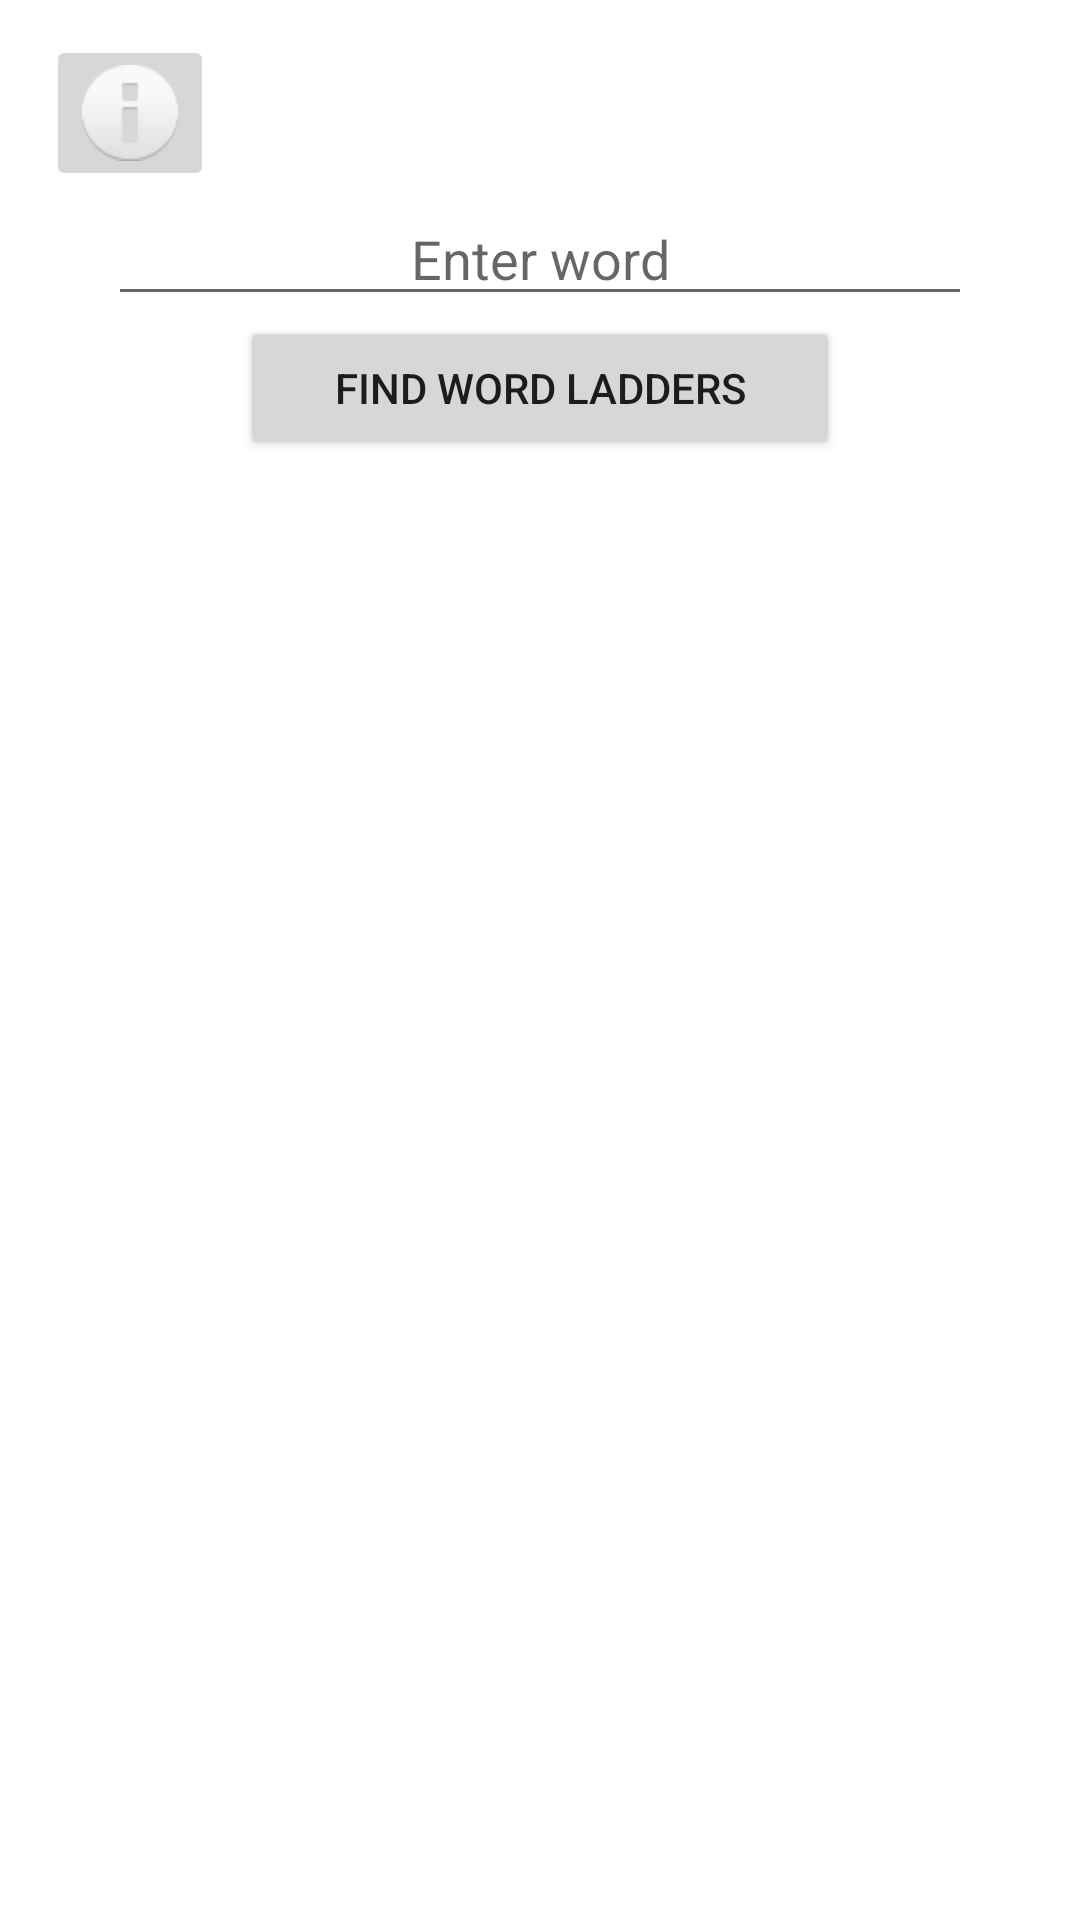

Icons on this 1080*1920 Android screen, each with its box as (x1, y1, x2, y2):
info: (58, 53, 202, 173)
